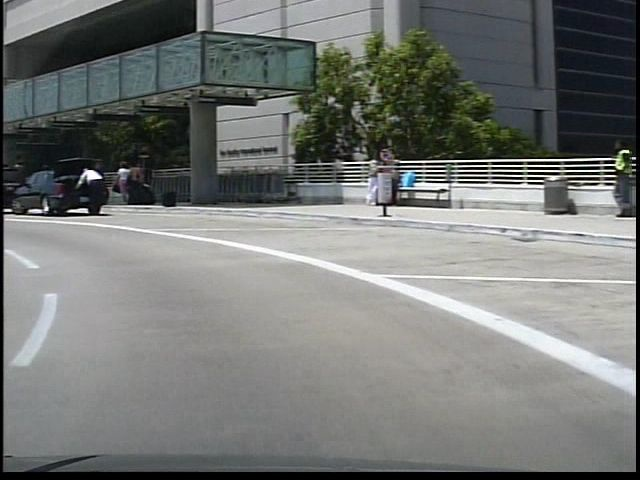person: (69, 166, 103, 220), (123, 158, 139, 209), (110, 163, 122, 203)
